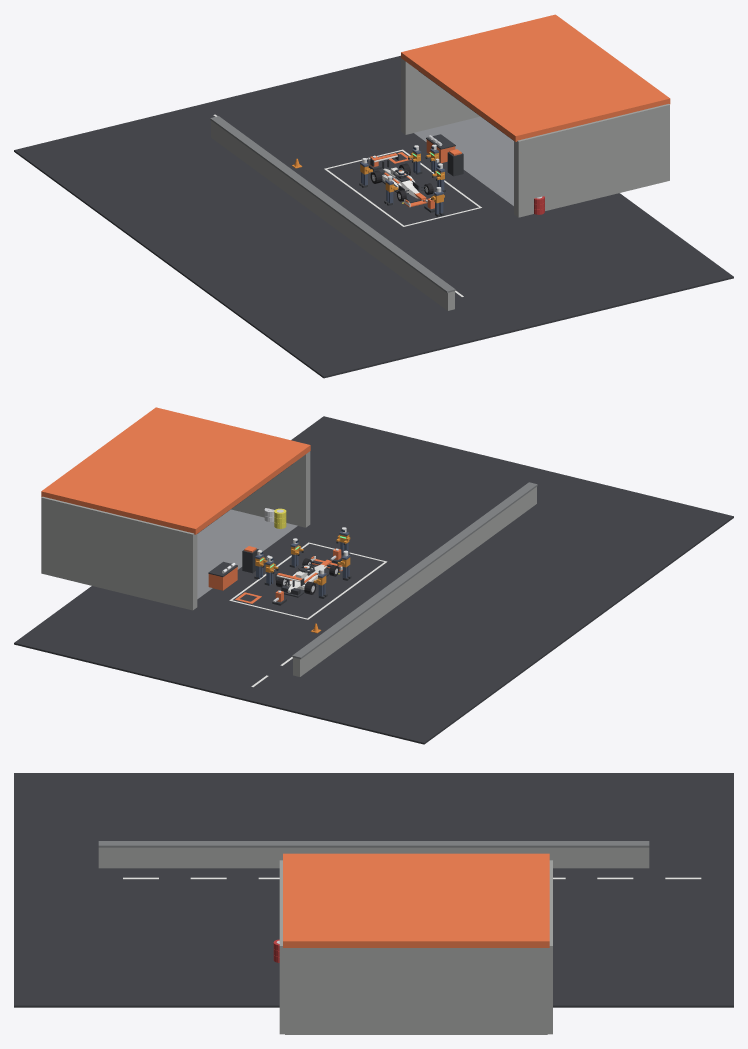
Rendered from pitbox.glb.
3 renders of one model, top to bottom at view 1: azimuth 30°, elevation 25°; view 2: azimuth 150°, elevation 25°; view 3: azimuth 270°, elevation 25°, orthographic. The views are drawn at different scales.
Visible parts, largest first — view 1: PitBox, CarBody; view 2: PitBox, CarBody; view 3: PitBox.
Boxes of the visible parts, left/top/right/bottom form: PitBox: left=14, top=14, right=733, bottom=378; CarBody: left=370, top=152, right=435, bottom=207; PitBox: left=14, top=407, right=733, bottom=744; CarBody: left=275, top=556, right=342, bottom=597; PitBox: left=14, top=773, right=733, bottom=1034.
Bounding box in the file's own units: 29.3 × 4.99 × 34.
